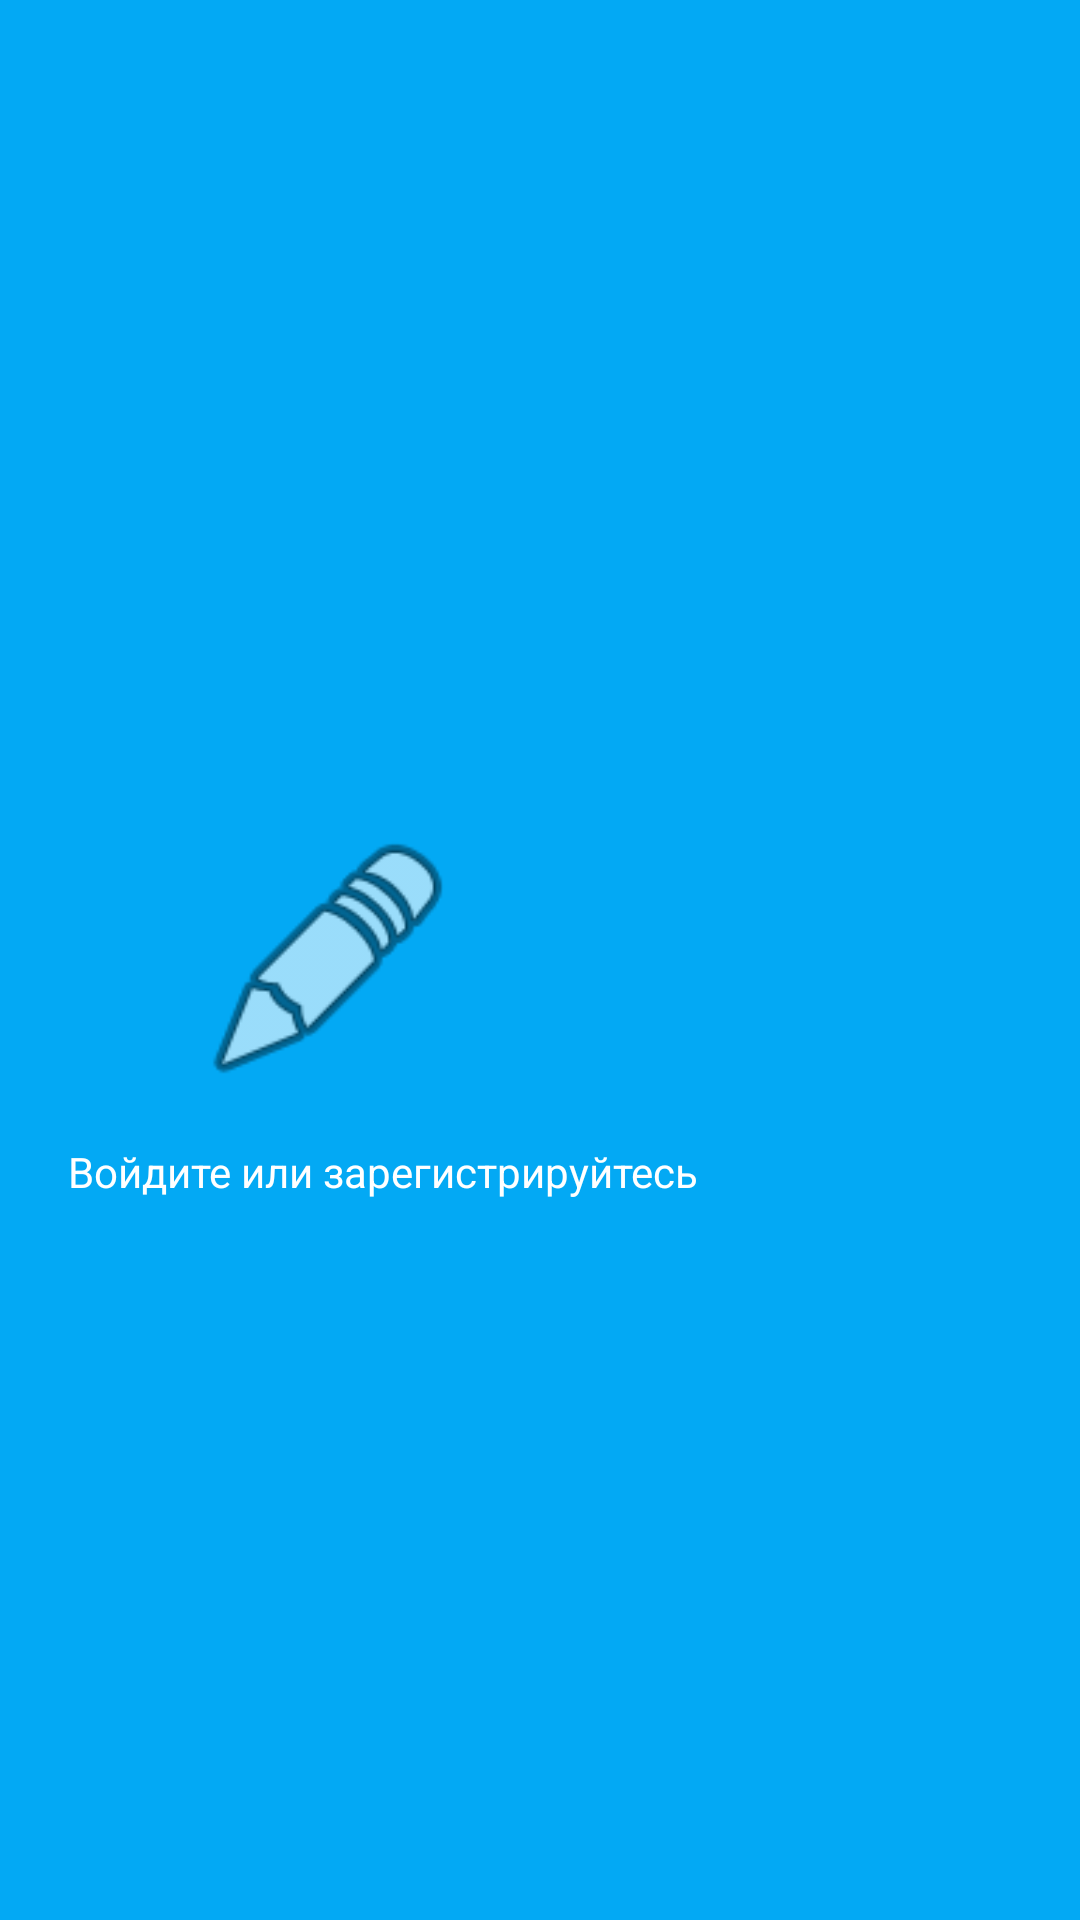

Locate icon controls on the screen. Image size 1080×1920, boxes as Rect(x1, y1, x2, y2).
edit: Rect(213, 844, 442, 1073)
